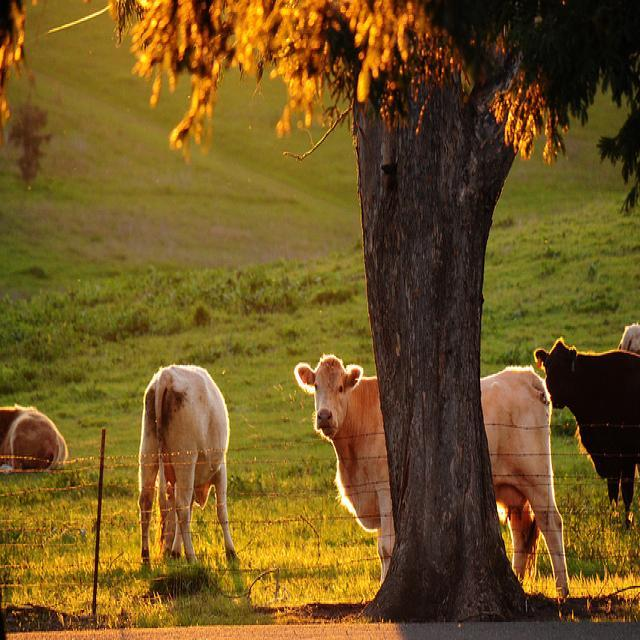cow: (293, 350, 569, 598), (133, 361, 237, 561), (534, 337, 639, 513), (0, 398, 65, 475), (616, 322, 639, 352)
